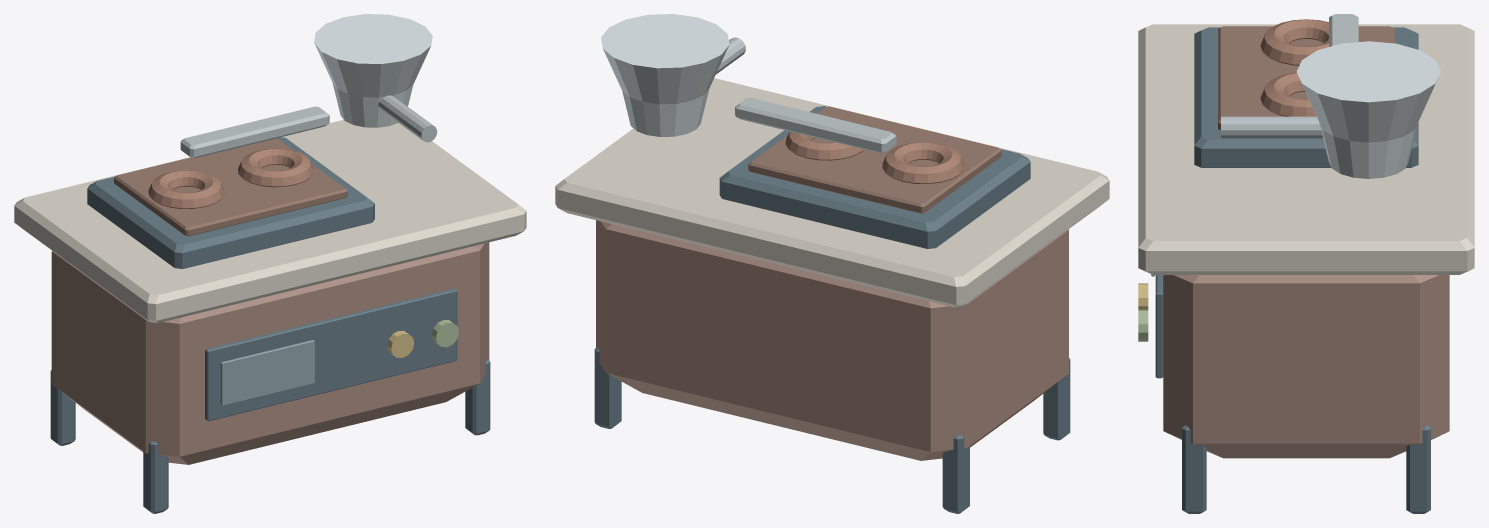
Rendered from chocolate_glazer.glb.
3 views of the same model, side by side, from view 1: azimuth 30°, elevation 25°; view 2: azimuth 150°, elevation 25°; view 3: azimuth 270°, elevation 25° (orthographic). The views are drawn at different scales.
Parts seen in each view (by area): view 1: chocolate_glazer, Spinner; view 2: chocolate_glazer, Spinner; view 3: chocolate_glazer, Spinner.
Part boxes in pixels (<box>): chocolate_glazer: <box>14,14,526,513</box>; Spinner: <box>180,106,329,157</box>; chocolate_glazer: <box>555,14,1109,513</box>; Spinner: <box>735,97,896,153</box>; chocolate_glazer: <box>1138,19,1474,513</box>; Spinner: <box>1329,14,1358,46</box>.
Bounding box in the file's own units: 2.12 × 1.86 × 1.35.
